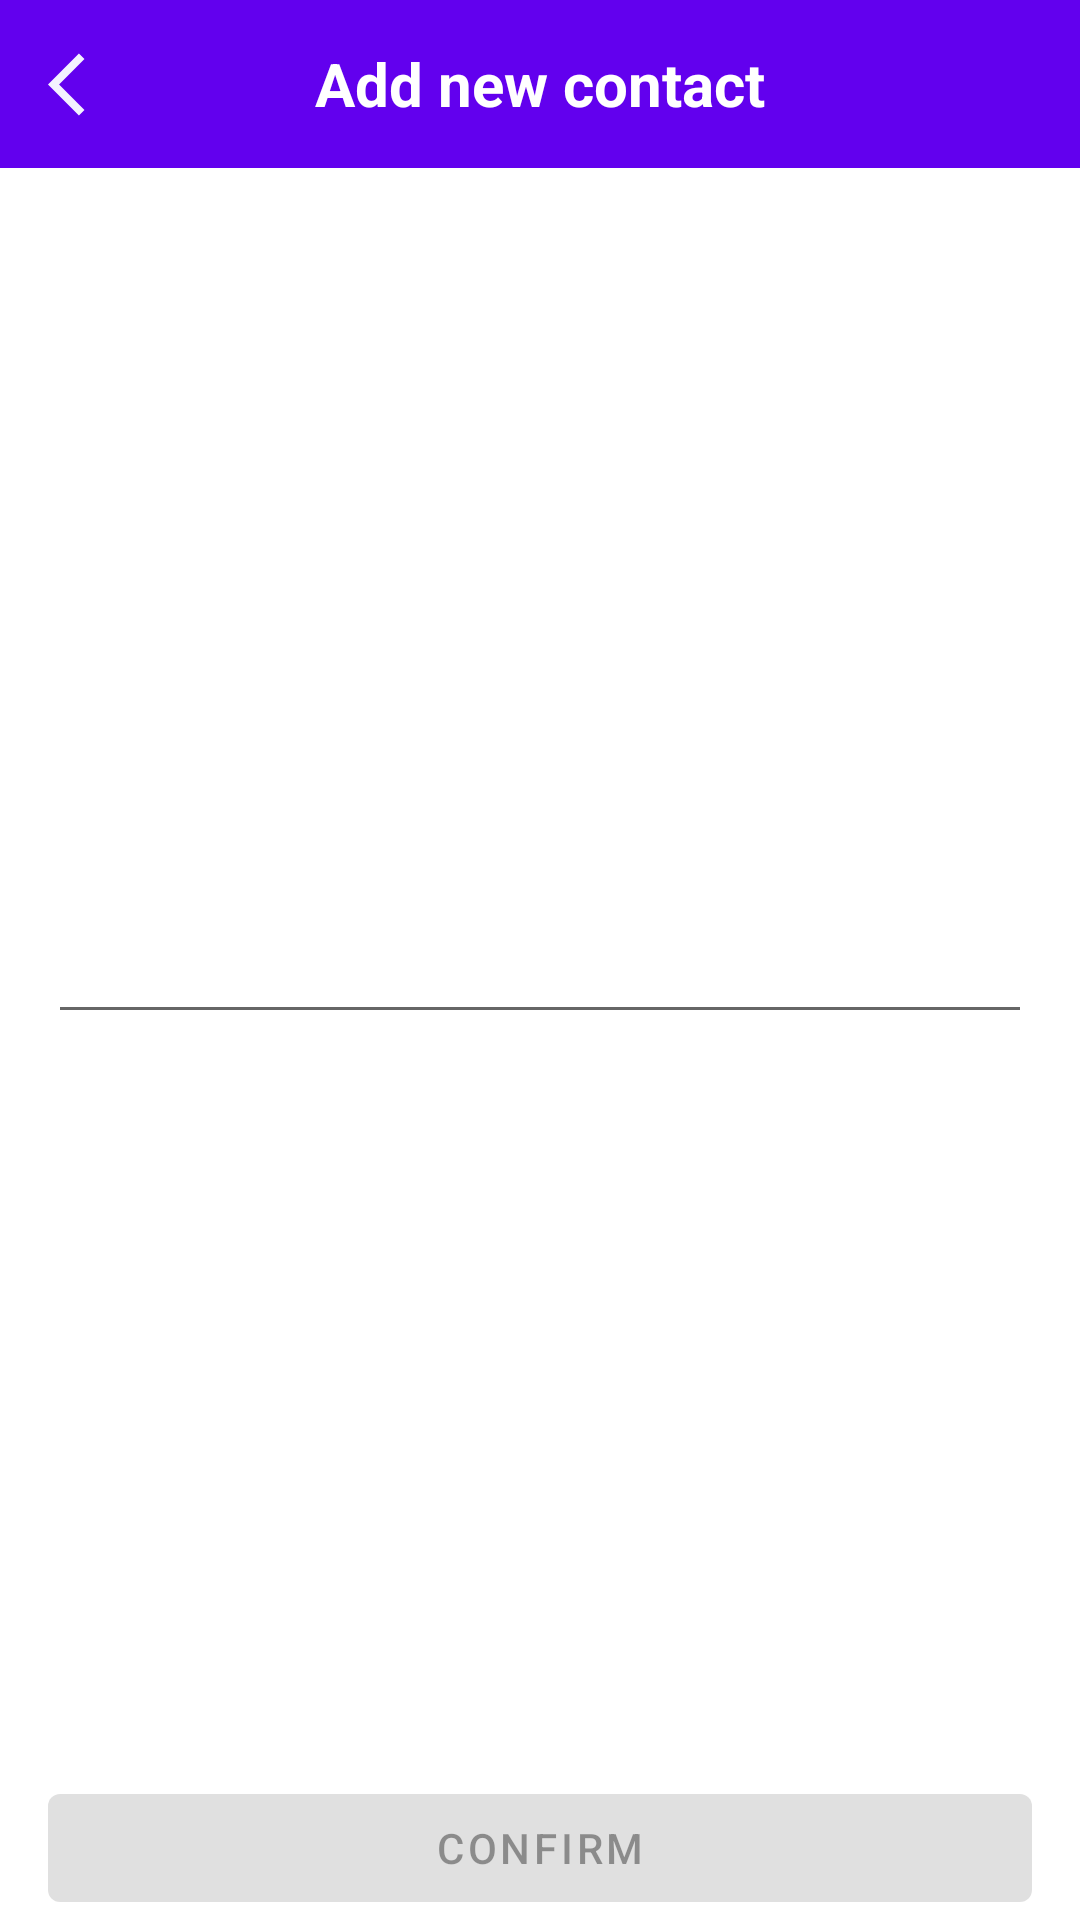

Named icons in this screenshot (1080x1920) and their bounding boxes, [x1,y1,x2,y2]:
Return: [48,53,85,116]
